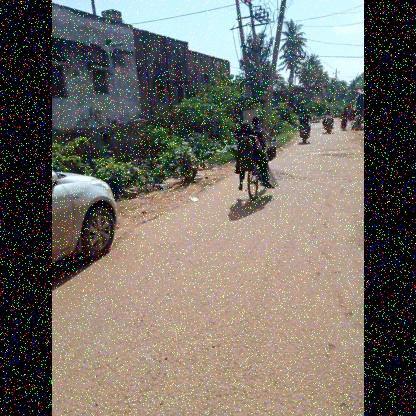Bicycle: (218, 131, 288, 201)
